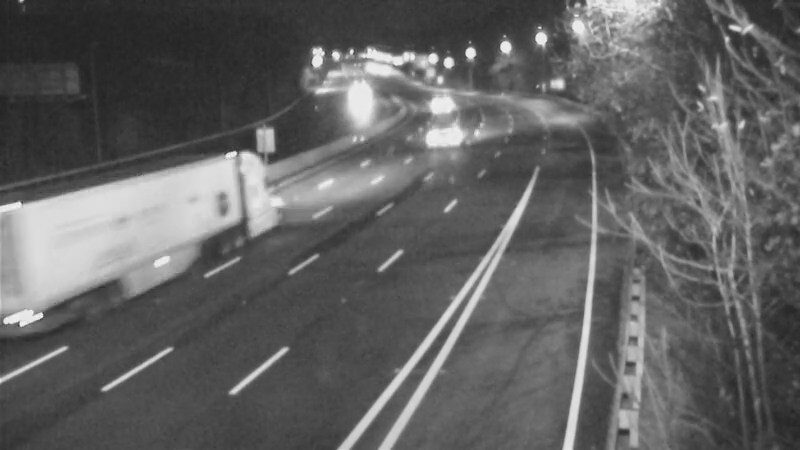vehicle: (180, 140, 260, 220), (414, 75, 464, 125), (409, 113, 459, 163), (333, 82, 383, 132)
